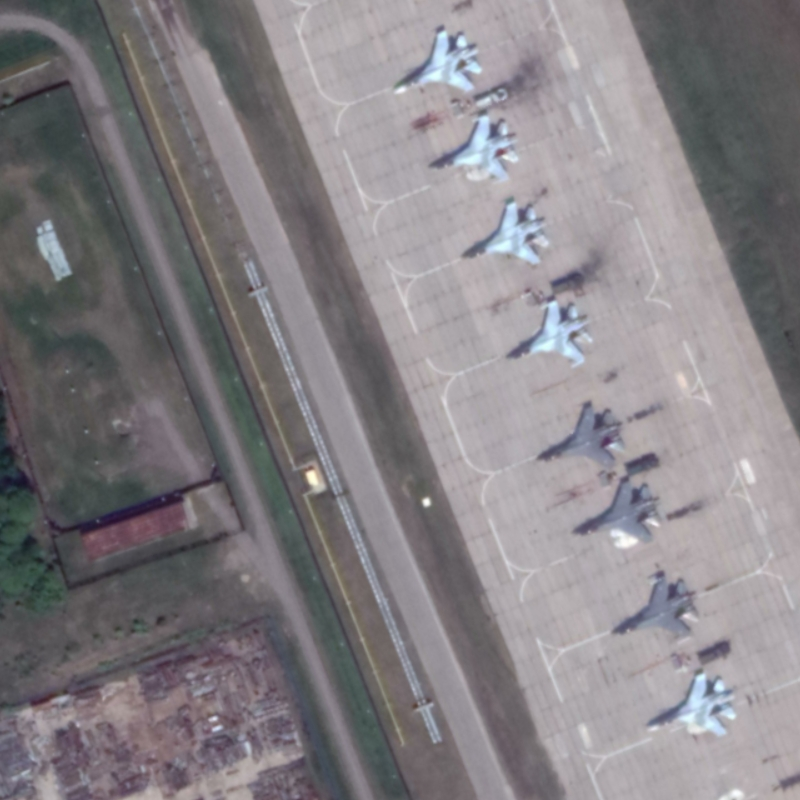A1: (430, 114, 521, 185), (391, 28, 484, 97), (536, 402, 629, 471), (645, 671, 738, 739), (612, 575, 700, 645), (462, 200, 551, 267), (512, 298, 594, 370), (579, 479, 664, 544)
